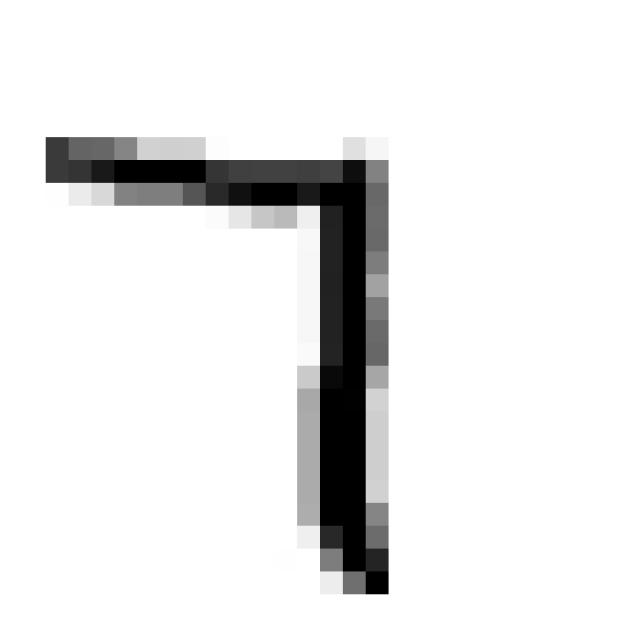6 -six-: (30, 112, 408, 619)
